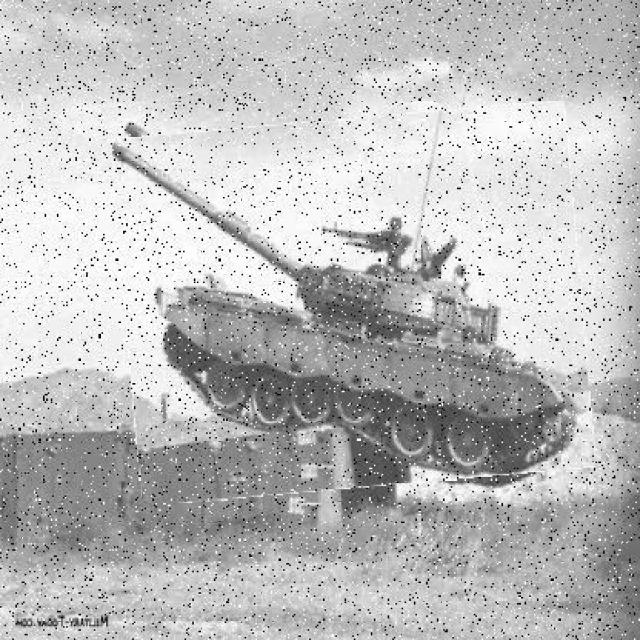Tank: (120, 111, 589, 497)
